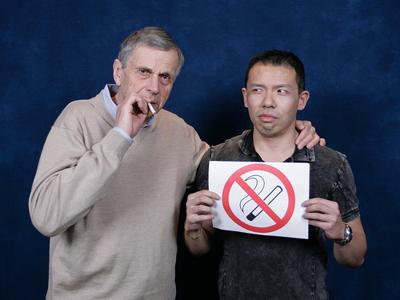person: (29, 25, 213, 298)
